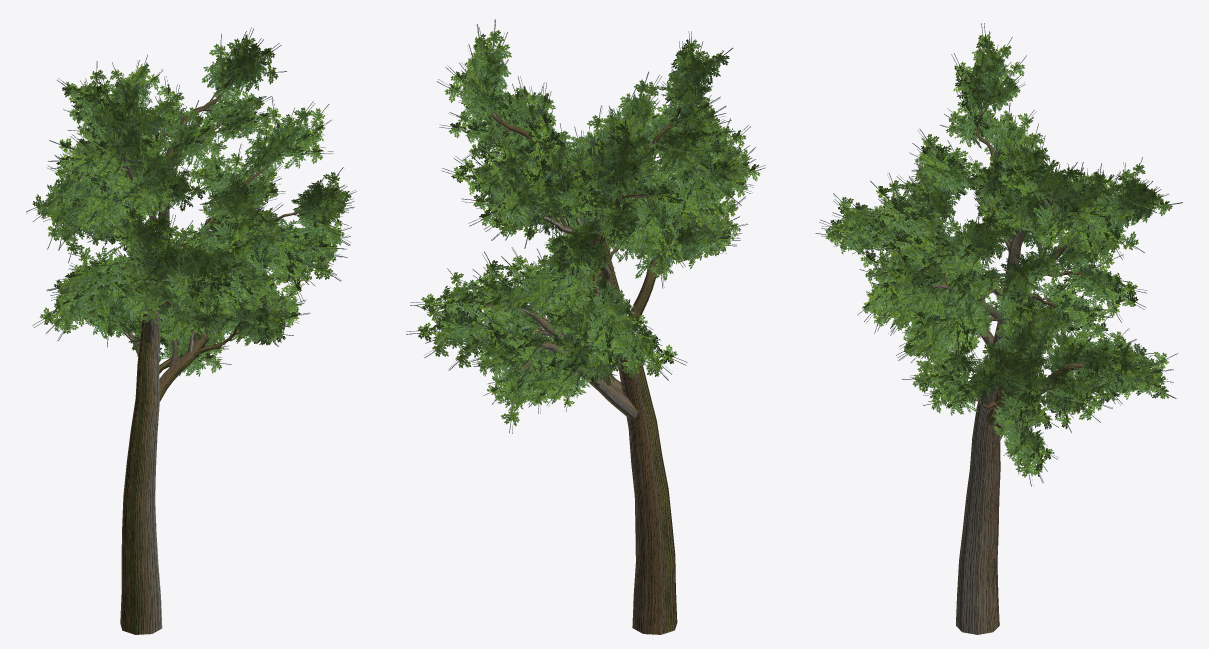
Rendered from eztree-black-walnut-stand-c.glb.
3 views of the same model, side by side, from view 1: azimuth 30°, elevation 25°; view 2: azimuth 150°, elevation 25°; view 3: azimuth 270°, elevation 25° (orthographic). The views are drawn at different scales.
Visible parts, largest first — view 1: eztree-black-walnut-stand-c; view 2: eztree-black-walnut-stand-c; view 3: eztree-black-walnut-stand-c.
Boxes of the visible parts, x1,y1,x2,y2 form: eztree-black-walnut-stand-c: (26,27,356,634); eztree-black-walnut-stand-c: (406,19,765,634); eztree-black-walnut-stand-c: (815,23,1182,634).
Size of the model in its own units: 43.28 by 76.08 by 45.87.
Materials: 2 (2 with a texture image).
